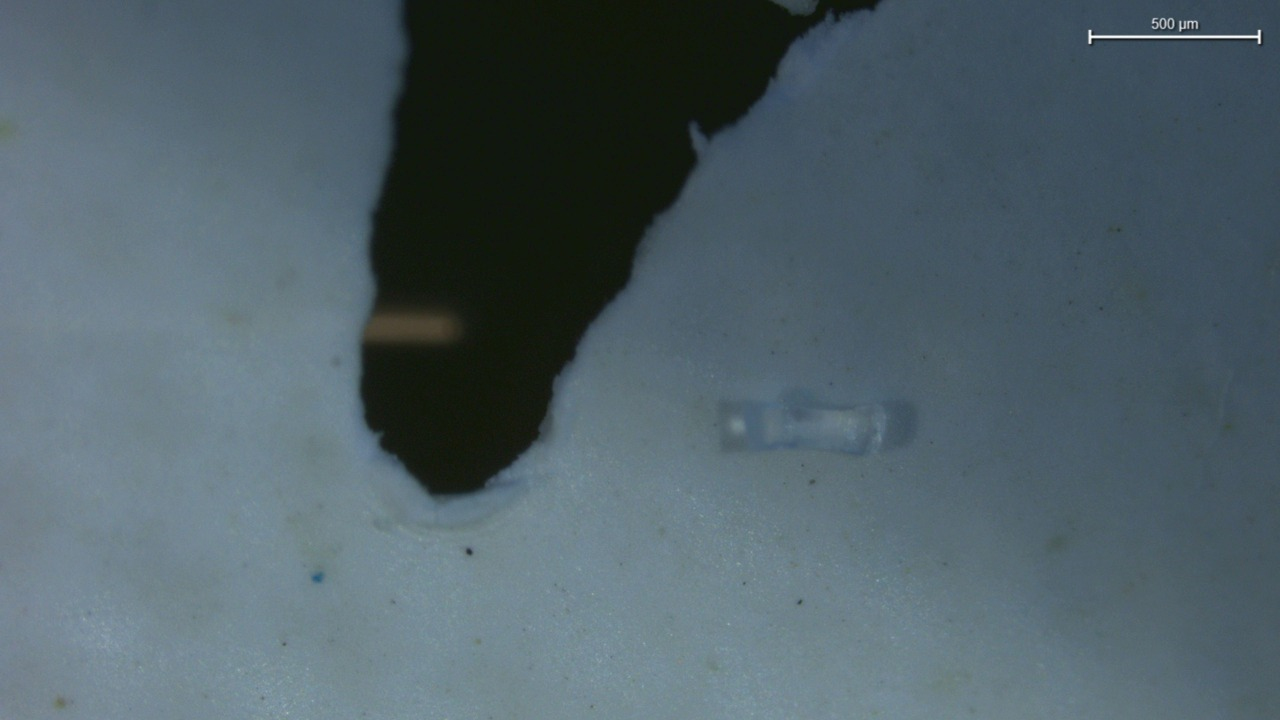microplastic_fragment: (720, 388, 917, 455)
